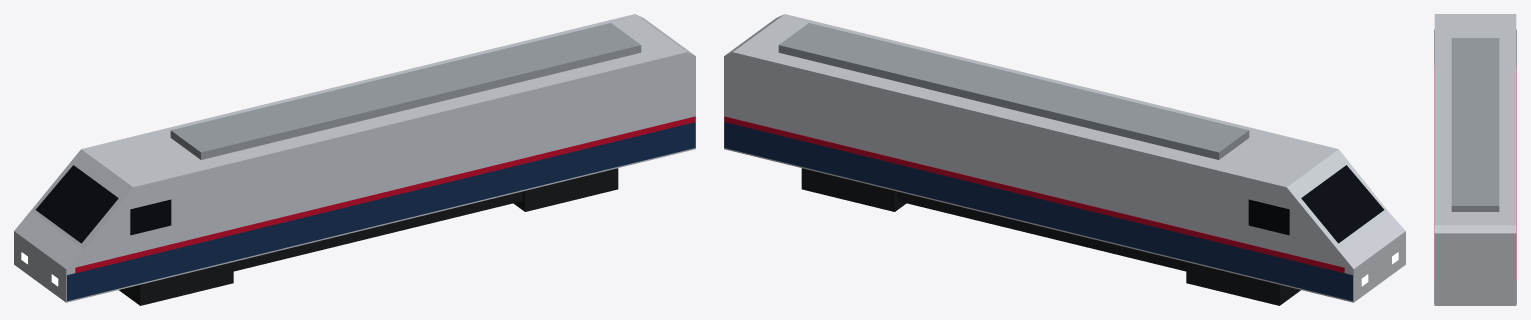
Rendered from loco-amtrak.glb.
The picture shows the model from 3 angles, left to right: view 1: azimuth 30°, elevation 25°; view 2: azimuth 150°, elevation 25°; view 3: azimuth 270°, elevation 25°; orthographic projection. The views are drawn at different scales.
Visible parts, largest first — view 1: locomotive; view 2: locomotive; view 3: locomotive.
Boxes of the visible parts, box(x1,y1,x2,y2) form: locomotive: box(14, 14, 695, 305); locomotive: box(724, 14, 1405, 305); locomotive: box(1434, 14, 1516, 305).
Bounding box in the file's own units: 21.62 × 4.25 × 3.12.
